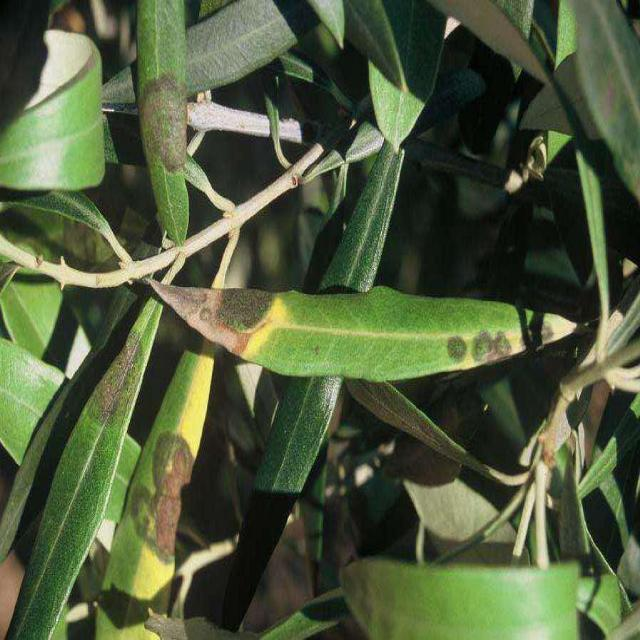OlivePeacockSpot: (5, 299, 162, 639), (145, 280, 526, 380), (97, 352, 213, 639), (136, 0, 188, 244)
